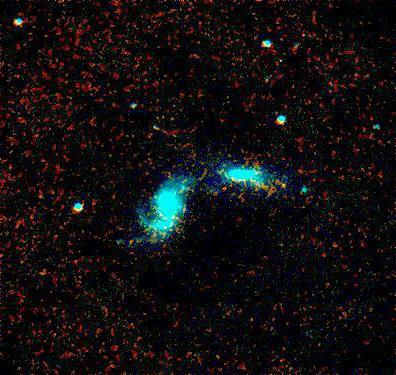star: (269, 170, 299, 200)
